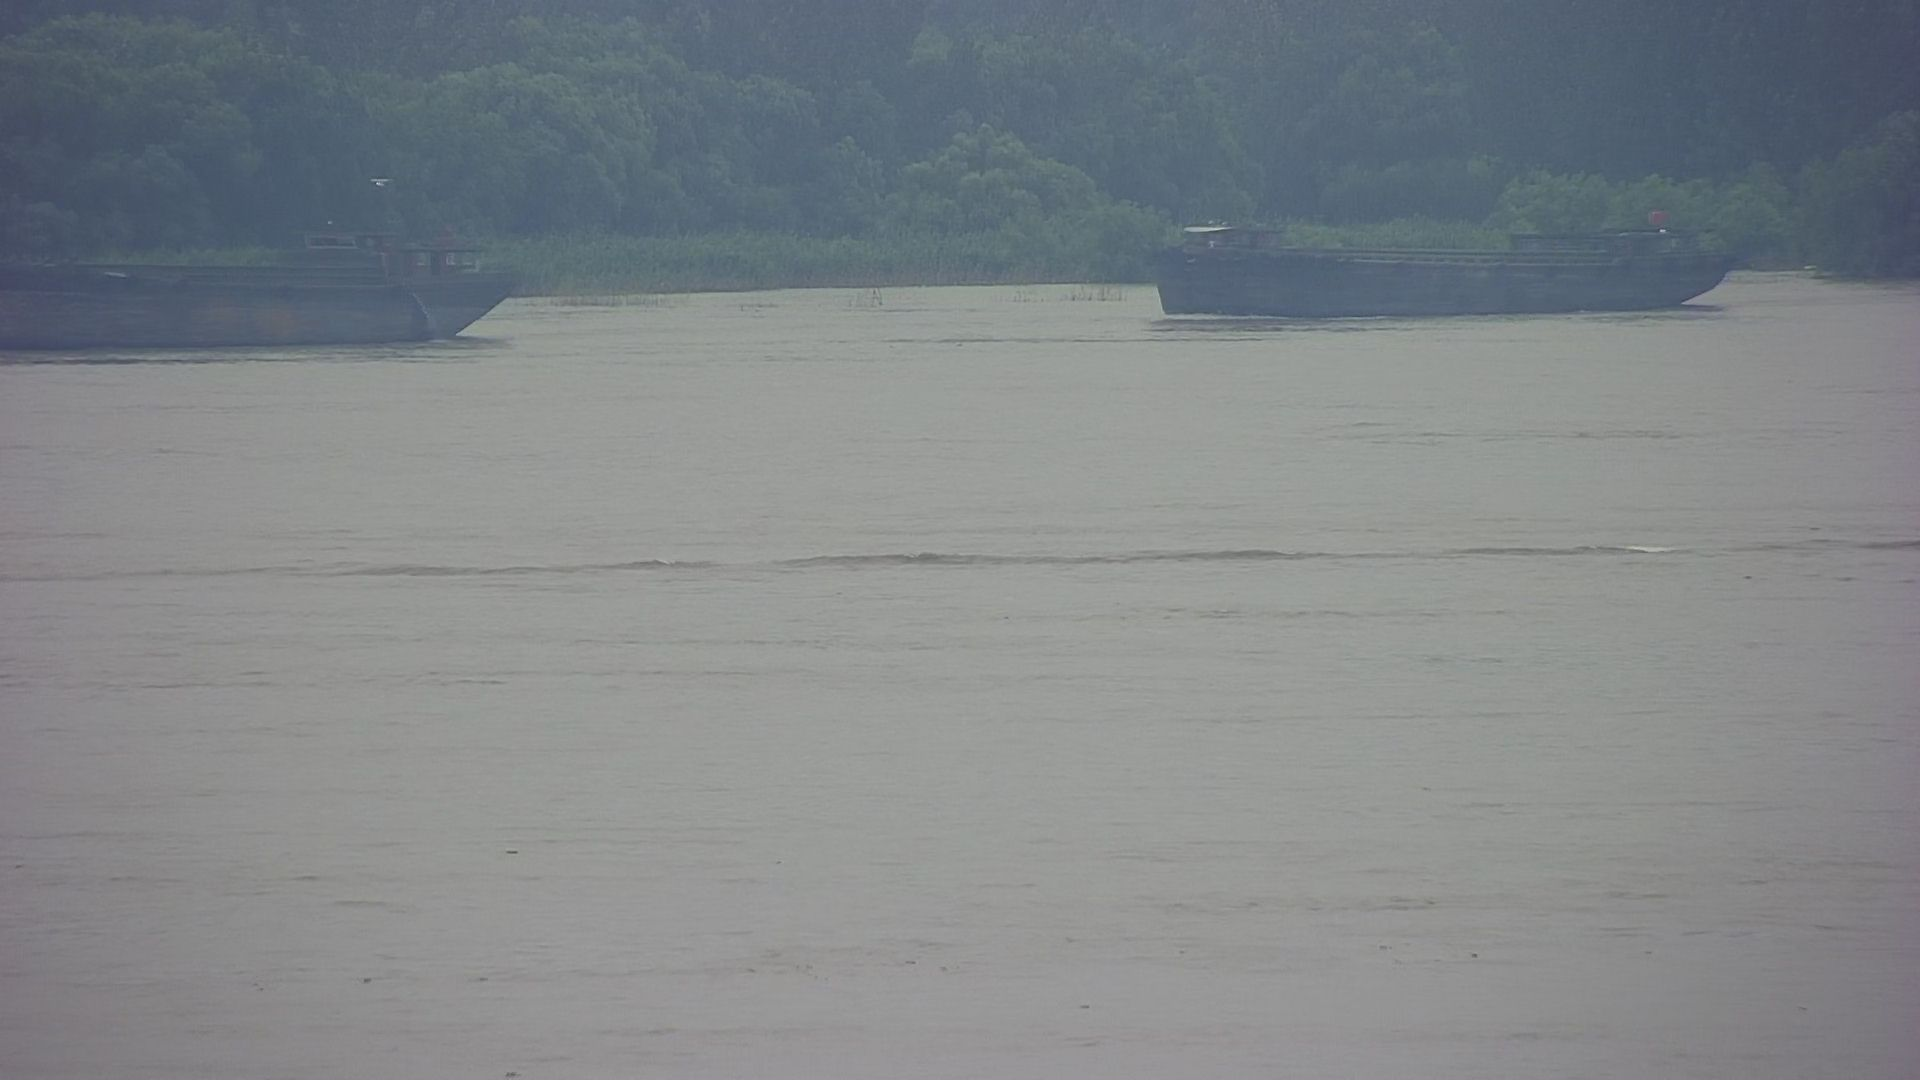ship: (1141, 189, 1766, 338), (1, 208, 539, 365)
